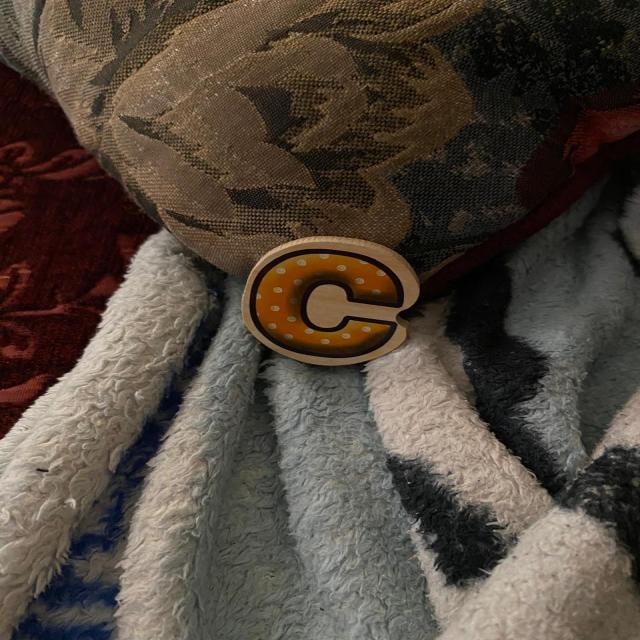C: (243, 237, 419, 365)
